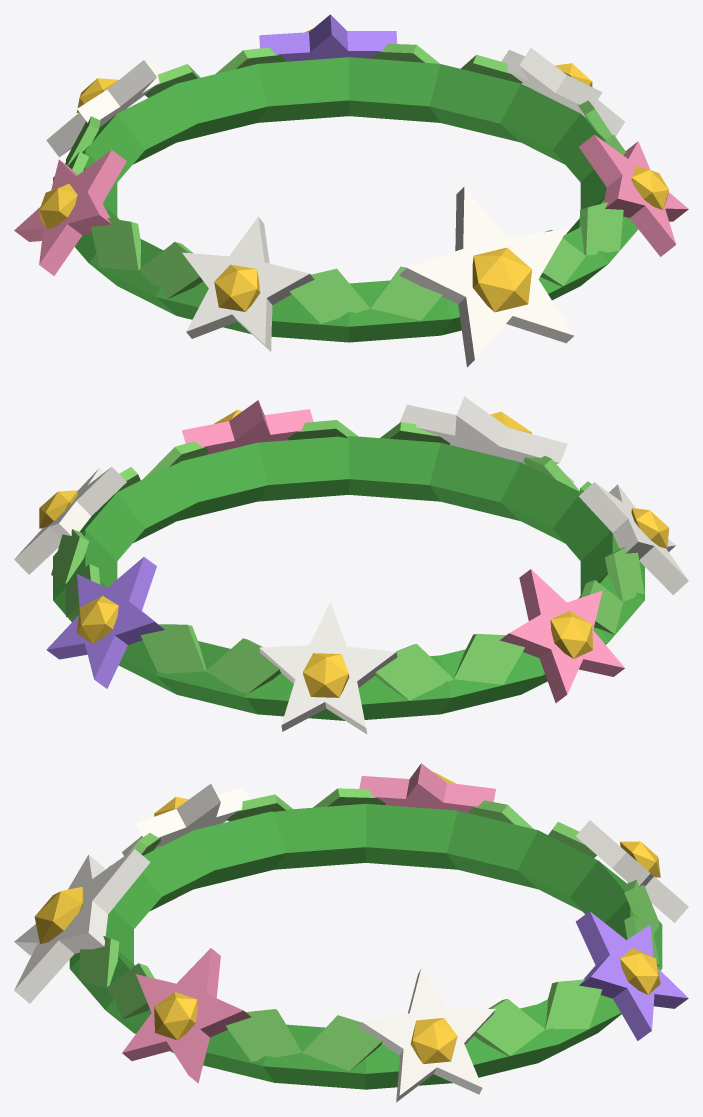
Rendered from flower-crown.glb.
3 views of the same model, one above another, from view 1: azimuth 30°, elevation 25°; view 2: azimuth 150°, elevation 25°; view 3: azimuth 270°, elevation 25° (orthographic).
Visible parts, largest first — view 1: flower-crown; view 2: flower-crown; view 3: flower-crown.
Part boxes in pixels (x1,y1,x2,y2): flower-crown: (14,14,688,367); flower-crown: (14,396,688,734); flower-crown: (14,763,688,1102).
Bounding box in the file's own units: 0.187 × 0.0398 × 0.1862.
